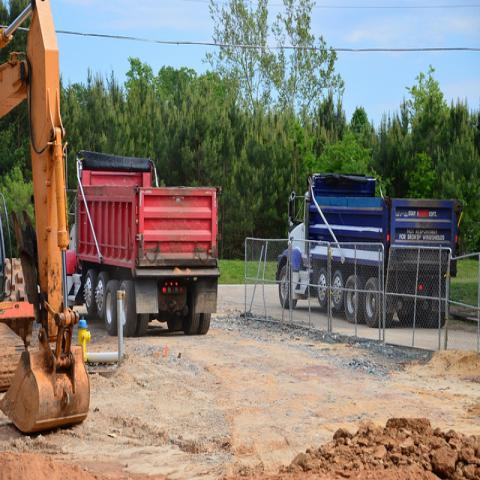truck: (278, 173, 469, 332), (64, 152, 222, 339)
